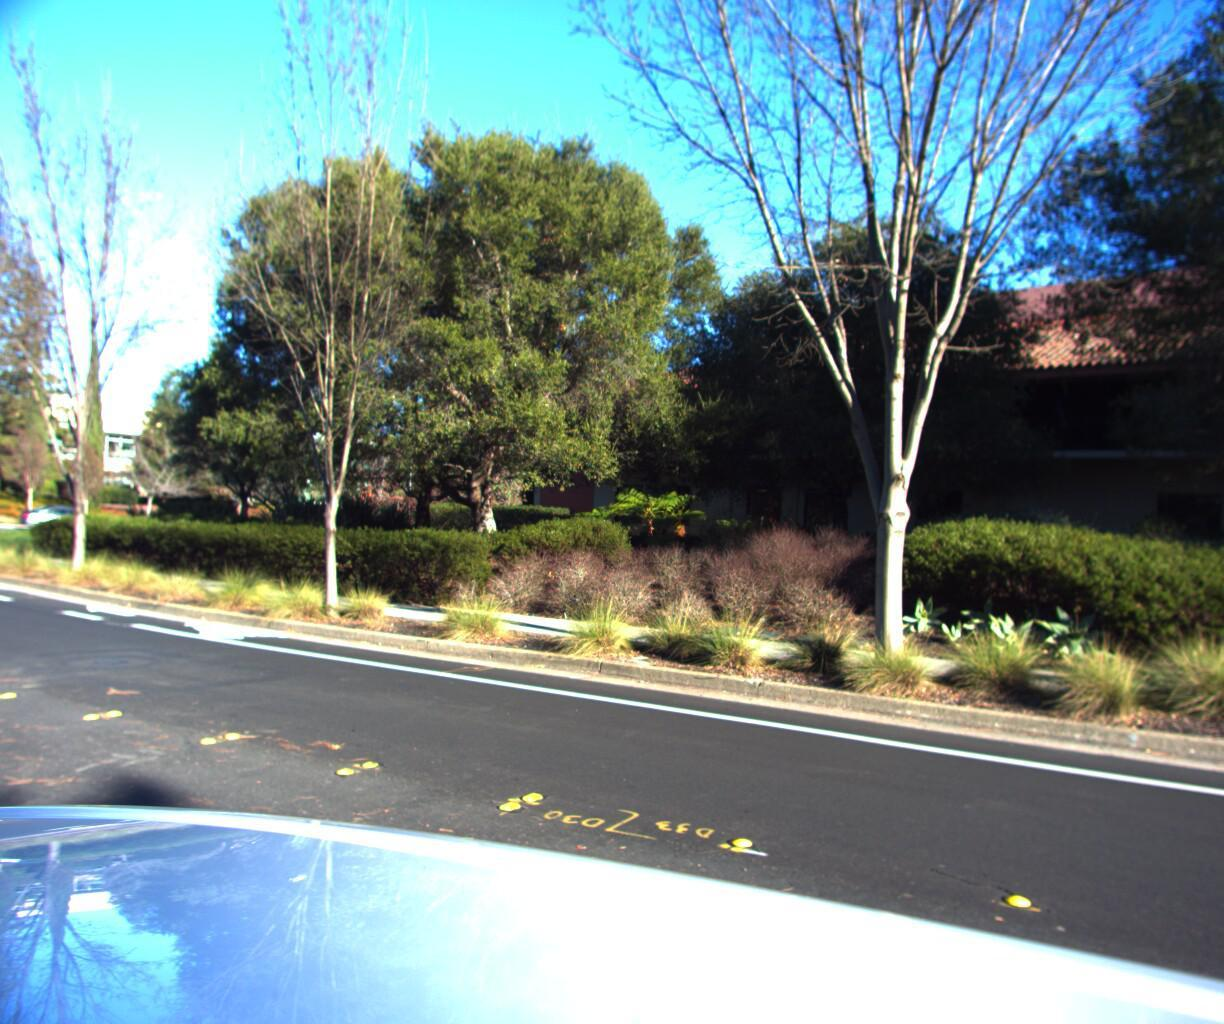car: (12, 510, 120, 543)
